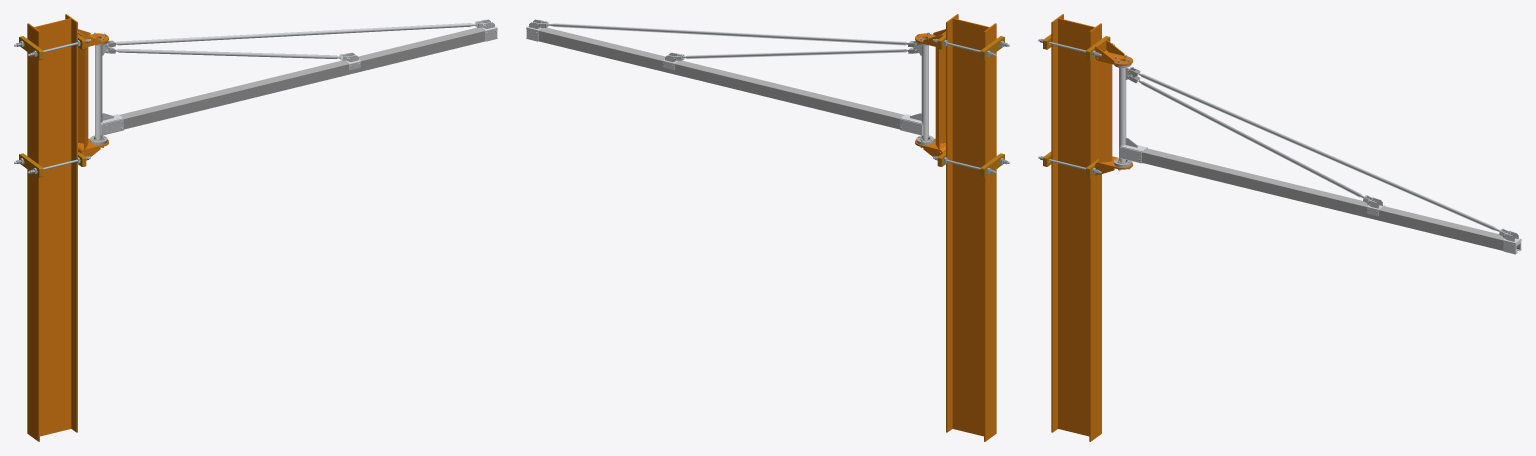
Rendered from aardwolf_all_part_WALL BRACED JIB CRANE 4M 250KG.fbx.
3 renders of one model, left to right at view 1: azimuth 30°, elevation 25°; view 2: azimuth 150°, elevation 25°; view 3: azimuth 330°, elevation 25°, orthographic.
Visible parts, largest first — view 1: Solid20, aardwolf_all_part_obj015, Solid1, aardwolf_all_part_obj014; view 2: Solid20, aardwolf_all_part_obj015, Solid1, aardwolf_all_part_obj014; view 3: Solid20, aardwolf_all_part_obj015, Solid1, aardwolf_all_part_obj014.
Part boxes in pixels (x1=…): Solid20: x1=27, y1=14, x2=77, y2=441; aardwolf_all_part_obj015: x1=90, y1=19, x2=497, y2=147; Solid1: x1=78, y1=47, x2=88, y2=149; aardwolf_all_part_obj014: x1=95, y1=45, x2=102, y2=140; Solid20: x1=946, y1=14, x2=996, y2=441; aardwolf_all_part_obj015: x1=526, y1=19, x2=933, y2=147; Solid1: x1=935, y1=47, x2=945, y2=149; aardwolf_all_part_obj014: x1=921, y1=45, x2=928, y2=140; Solid20: x1=1051, y1=14, x2=1101, y2=441; aardwolf_all_part_obj015: x1=1114, y1=55, x2=1521, y2=254; Solid1: x1=1098, y1=61, x2=1112, y2=162; aardwolf_all_part_obj014: x1=1119, y1=68, x2=1126, y2=162.
Size of the model in its own units: 4830 by 4000 by 360.
